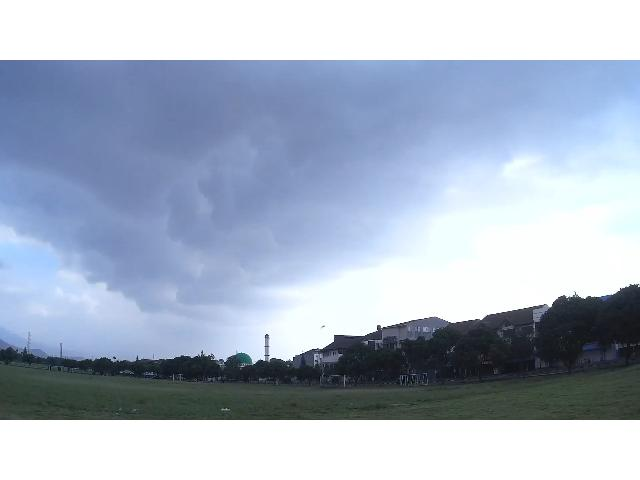Anti-Drone: (318, 322, 332, 334)
